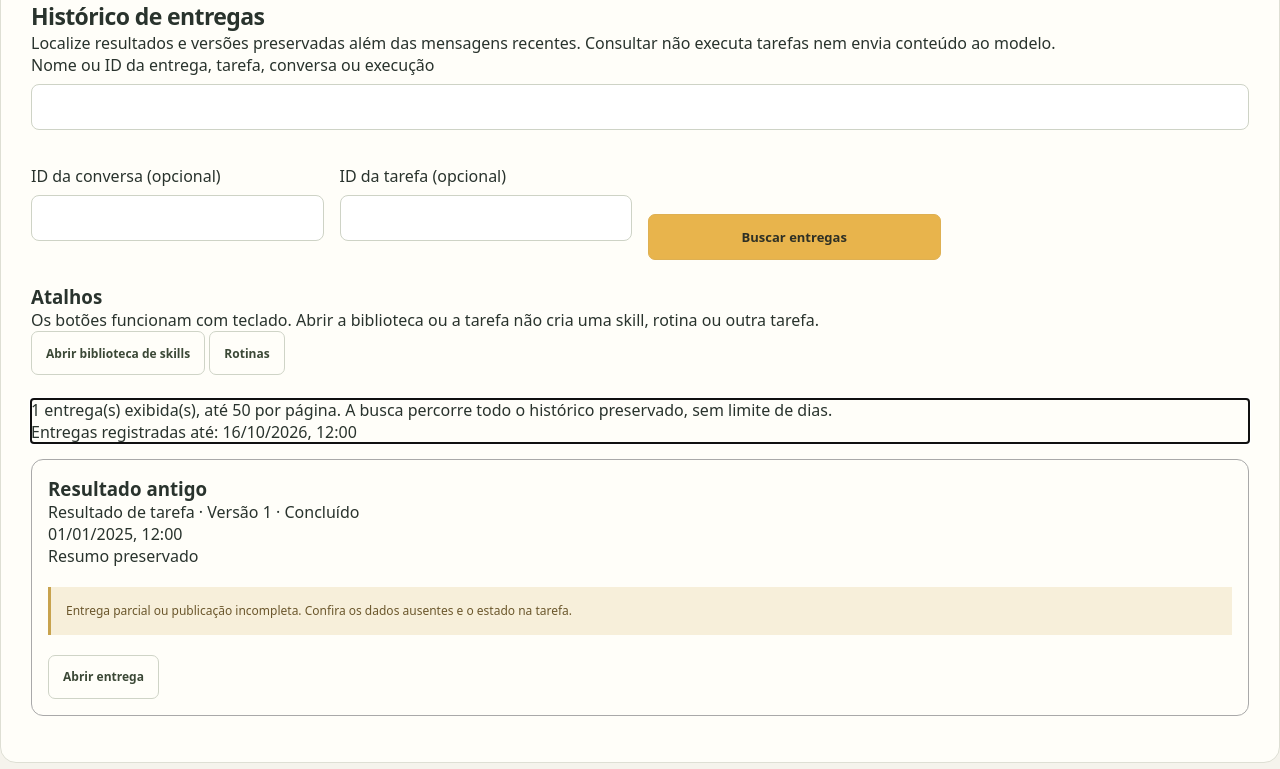
Test case: delivery history with actual React state and native controls › offers a keyboard-selectable reference when clipboard access fails
What coordinates should you click on to do the following:
click the button "Abrir entrega"
I would click on:
 (103, 677)
Its box is x1=48 y1=655 x2=159 y2=699.
(page scrolled)
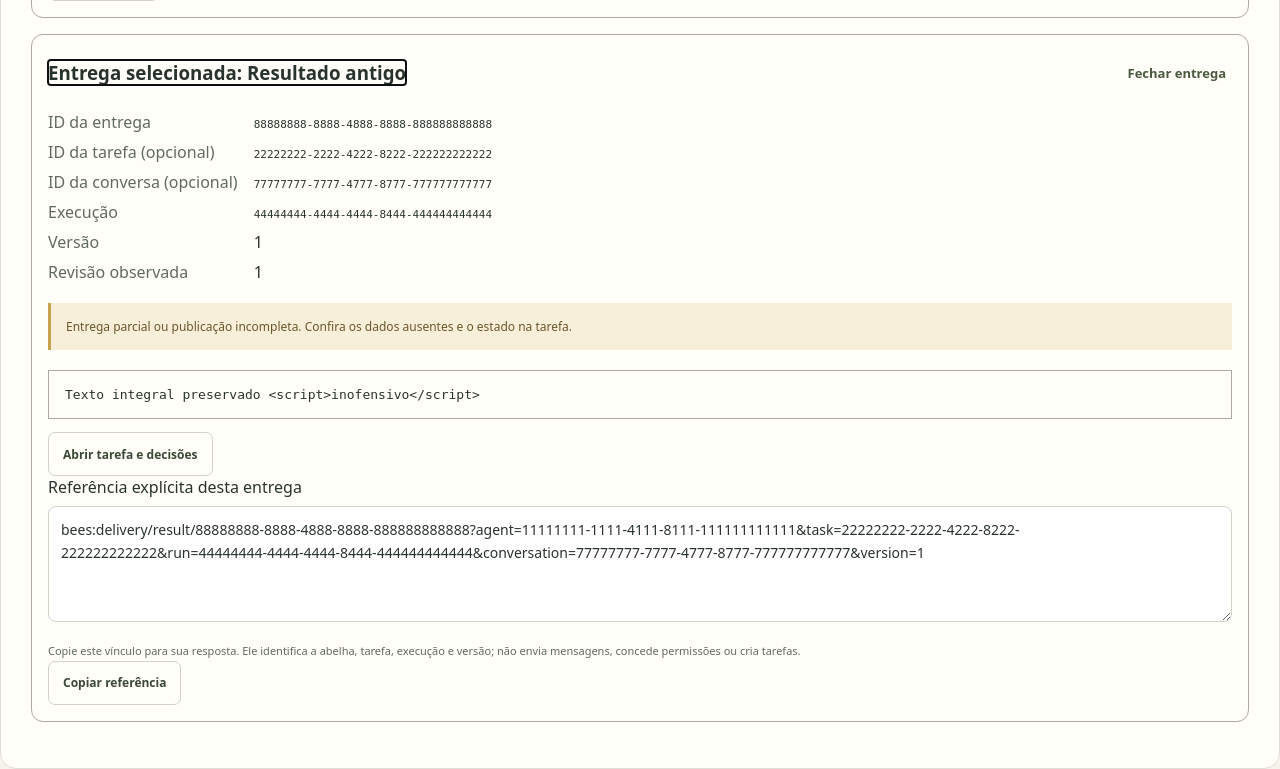
What coordinates should you click on to do the following:
click the button "Copiar referência"
I would click on:
 (115, 682)
Its box is x1=48 y1=660 x2=182 y2=704.
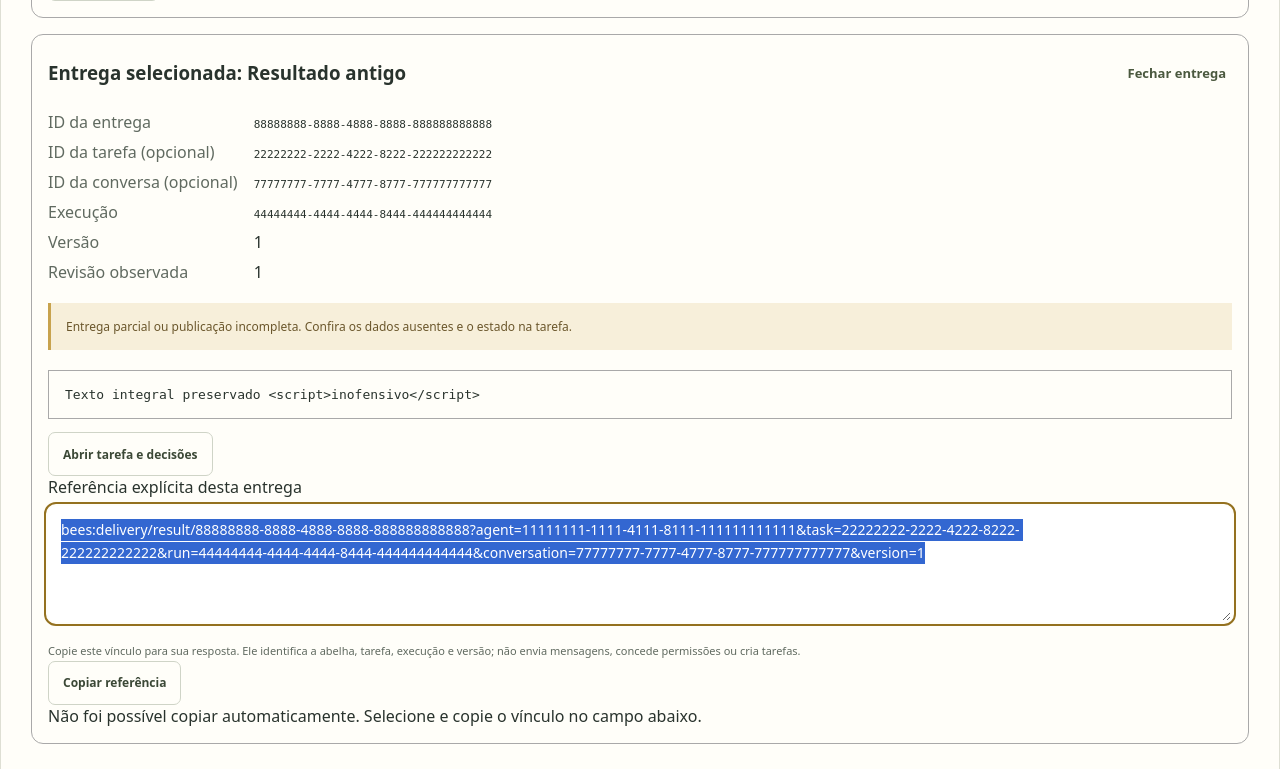
Expected: the text "Não foi possível copiar automaticamente" is shown, x1=48 y1=704 x2=702 y2=726
